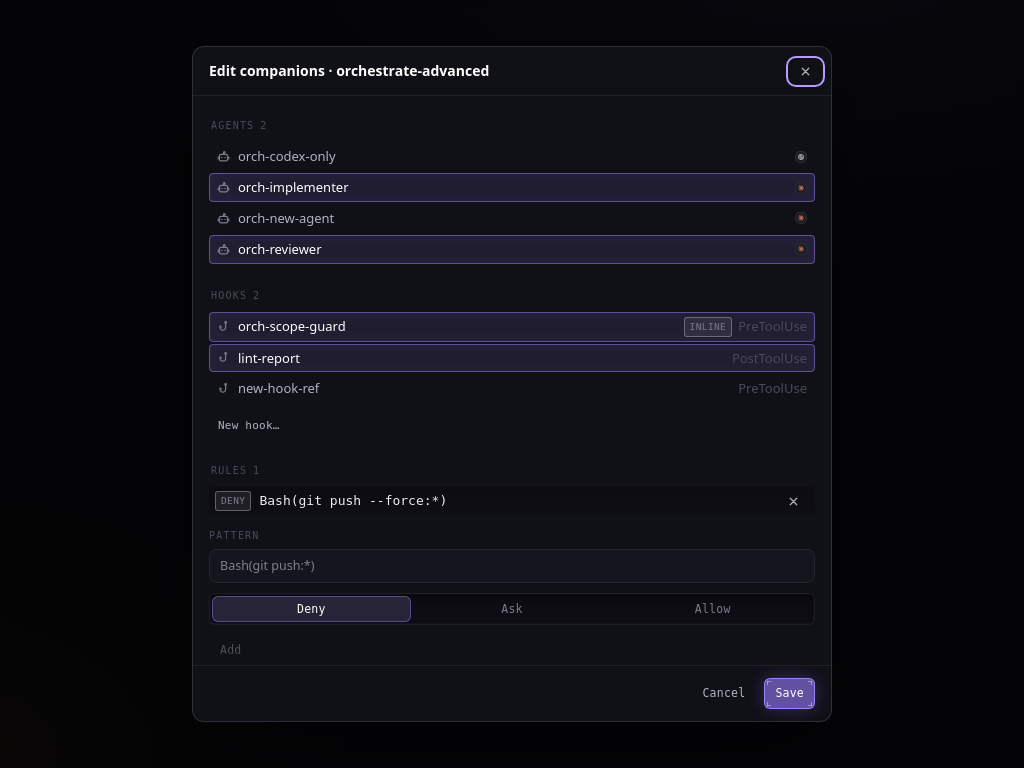
Scenario: CompanionsEditSheet › adds a typed rule via the pattern Field + Kind ChipRadios
expect the option "orch-implementer" is shown: met, box left=209, top=173, right=815, bottom=202
Step 1. Type "Bash(gh pr merge:*)" into the field with test id "companions-edit-rule-pattern" showing "Bash(git push:*)" → (512, 566), box left=209, top=549, right=815, bottom=583
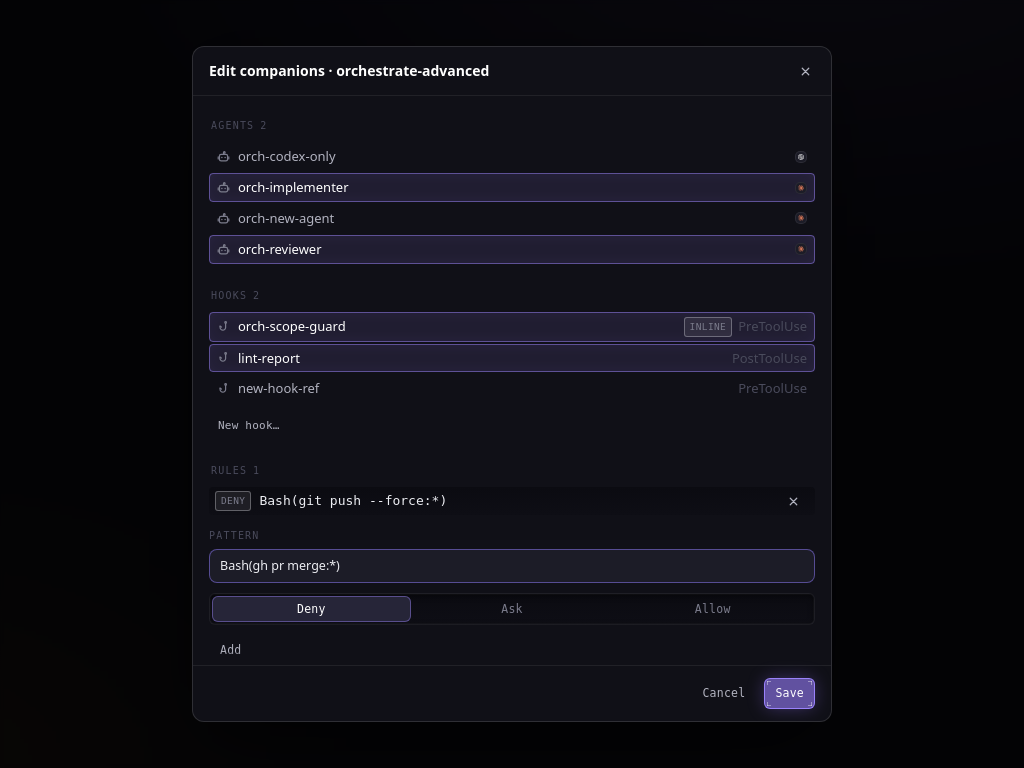
Step 2. Click the radio button labelled "Ask" → (512, 609), box left=501, top=602, right=523, bottom=616
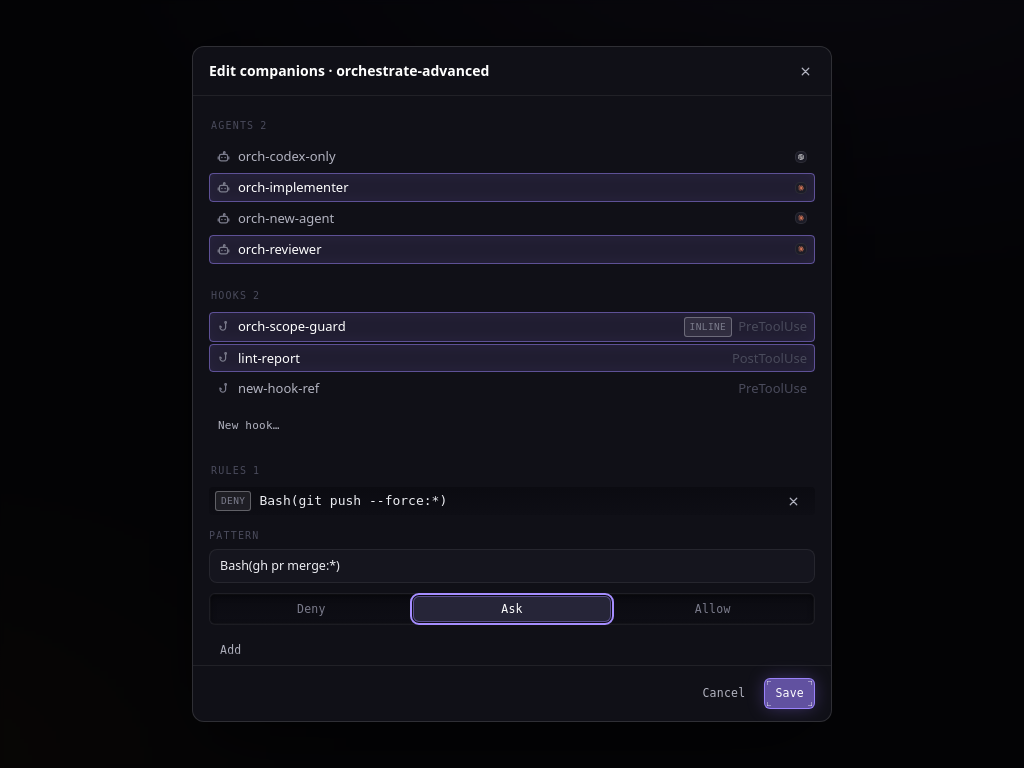
Step 3. Click the button with test id "companions-edit-rule-add" showing "Add" → (231, 651), box left=209, top=635, right=252, bottom=666
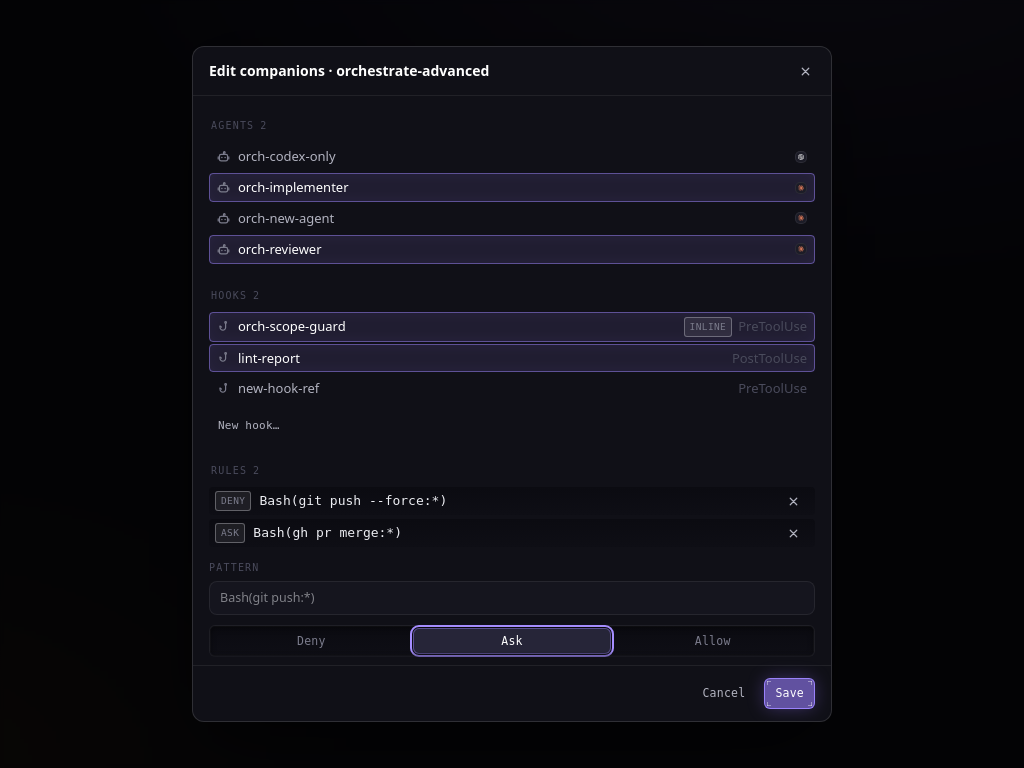
expect the element with test id "companions-edit-rule-ask:Bash(gh pr merge:*)" is shown: met, box left=209, top=519, right=815, bottom=547
